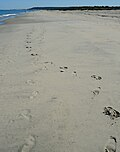human_footprint: (18, 135, 35, 151), (104, 103, 120, 120), (22, 108, 38, 121), (26, 80, 42, 92), (104, 136, 116, 151), (56, 66, 74, 76), (92, 76, 108, 82), (30, 90, 39, 98)
